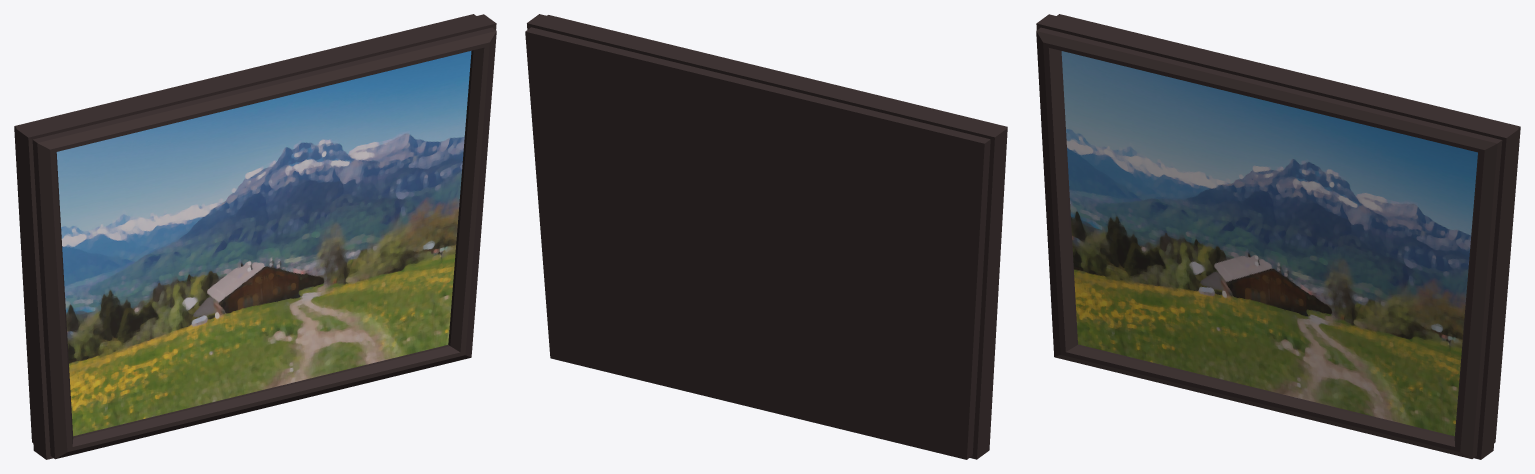
Rendered from FrameLarge.glb.
3 views of the same model, side by side, from view 1: azimuth 30°, elevation 25°; view 2: azimuth 150°, elevation 25°; view 3: azimuth 330°, elevation 25° (orthographic).
Parts seen in each view (by area): view 1: Cube; view 2: Cube; view 3: Cube.
Part boxes in pixels (box(x1,y1,x2,y2)): Cube: box(14, 14, 496, 459); Cube: box(525, 14, 1007, 459); Cube: box(1036, 14, 1520, 459).
Bounding box in the file's own units: 0.6114 × 0.4076 × 0.0589.
2 materials, 1 textured.
